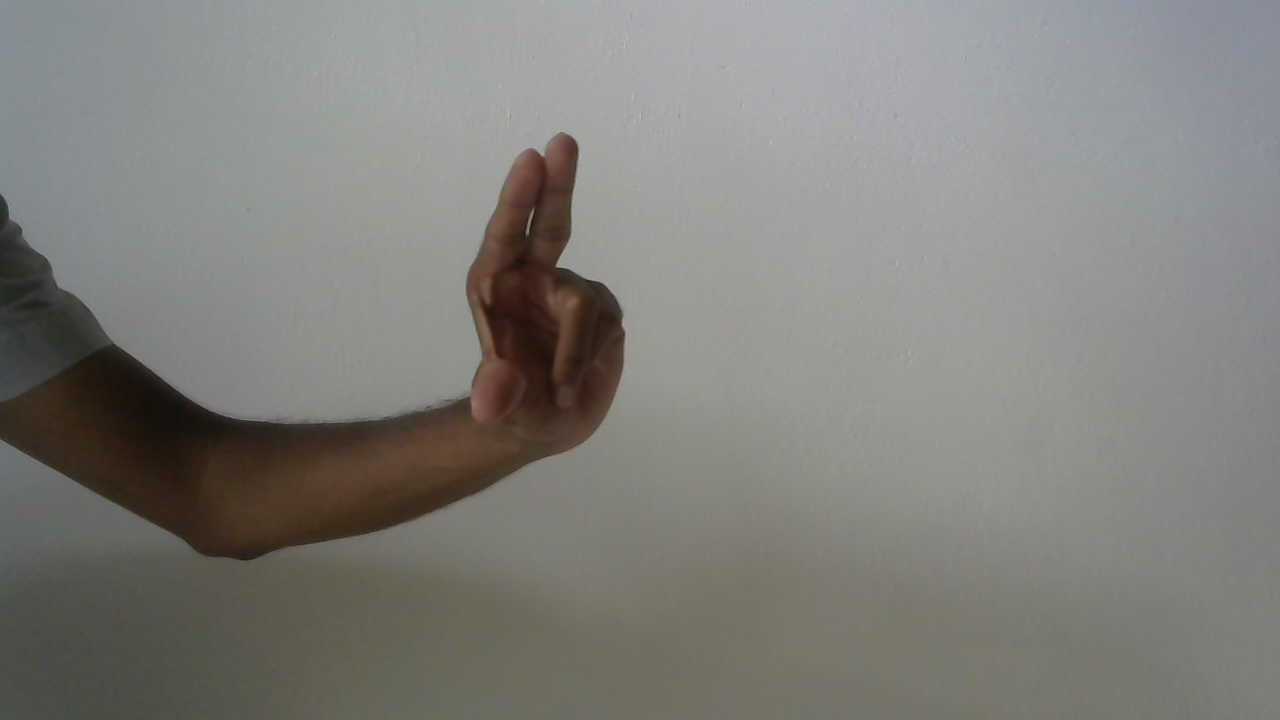no: (444, 120, 642, 475)
